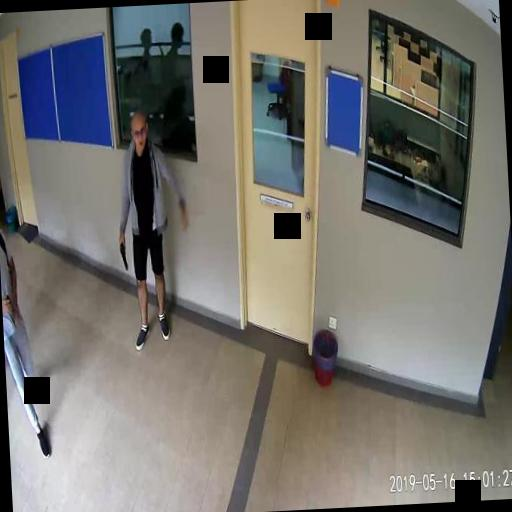Handgun: (116, 237, 128, 271)
